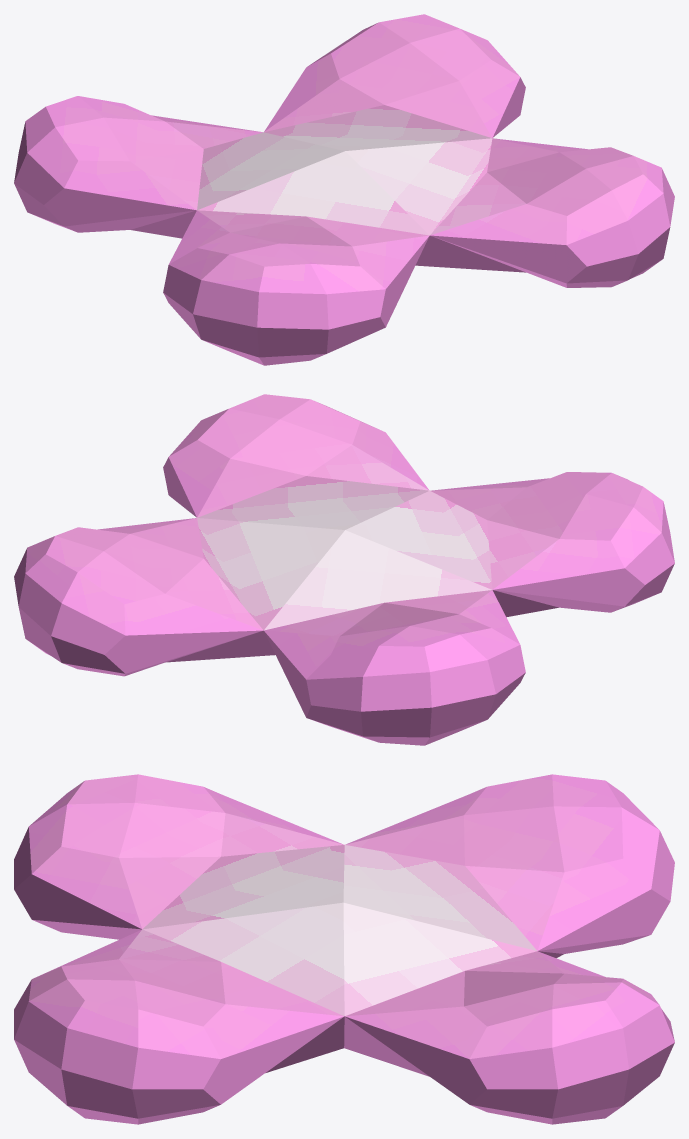
The model's file is flower-pink.gltf.
3 views of the same model, one above another, from view 1: azimuth 30°, elevation 25°; view 2: azimuth 150°, elevation 25°; view 3: azimuth 270°, elevation 25° (orthographic). The views are drawn at different scales.
Parts seen in each view (by area): view 1: flower; view 2: flower; view 3: flower.
Part boxes in pixels (<box>): flower: <box>14,14,674,365</box>; flower: <box>14,394,674,745</box>; flower: <box>14,774,674,1124</box>.
Bounding box in the file's own units: 0.1167 × 0.0234 × 0.1164.
Materials: 1 (1 with a texture image).
